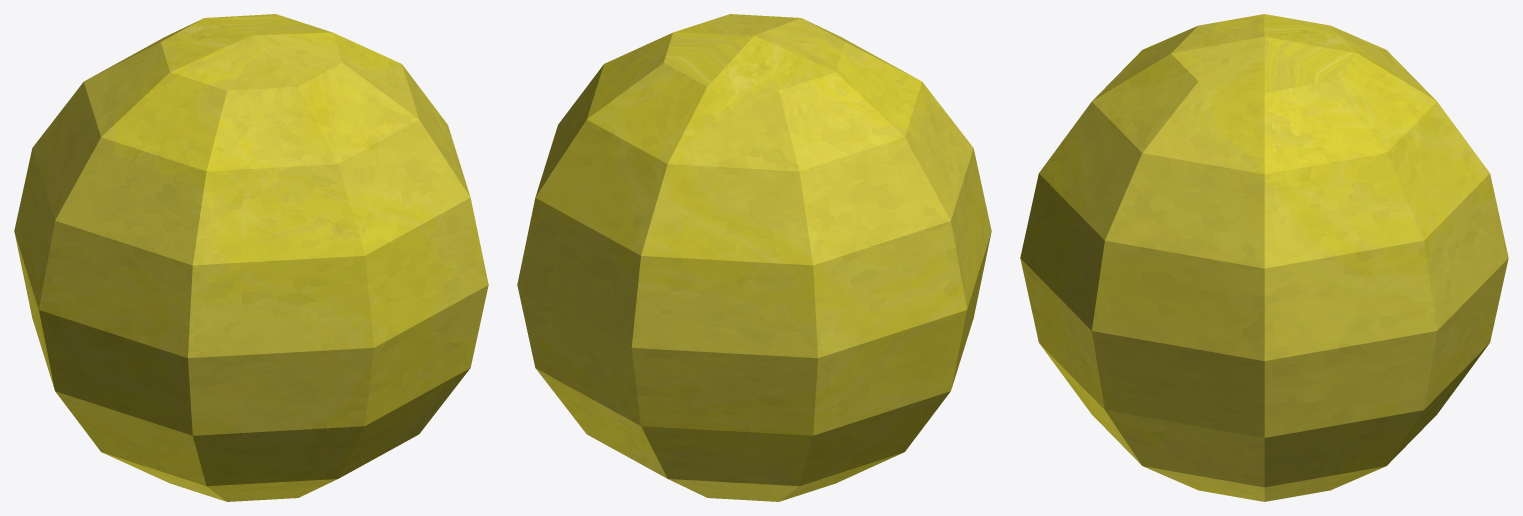
Rendered from sphere-music-gem.glb.
3 renders of one model, left to right at view 1: azimuth 30°, elevation 25°; view 2: azimuth 150°, elevation 25°; view 3: azimuth 270°, elevation 25°, orthographic.
Visible parts, largest first — view 1: sphere-music-gem; view 2: sphere-music-gem; view 3: sphere-music-gem.
Boxes of the visible parts, <box> form: sphere-music-gem: <box>14,14,488,501</box>; sphere-music-gem: <box>517,14,991,501</box>; sphere-music-gem: <box>1020,14,1508,501</box>.
Size of the model in its own units: 0.4091 by 0.4091 by 0.4091.
1 material, 1 textured.
